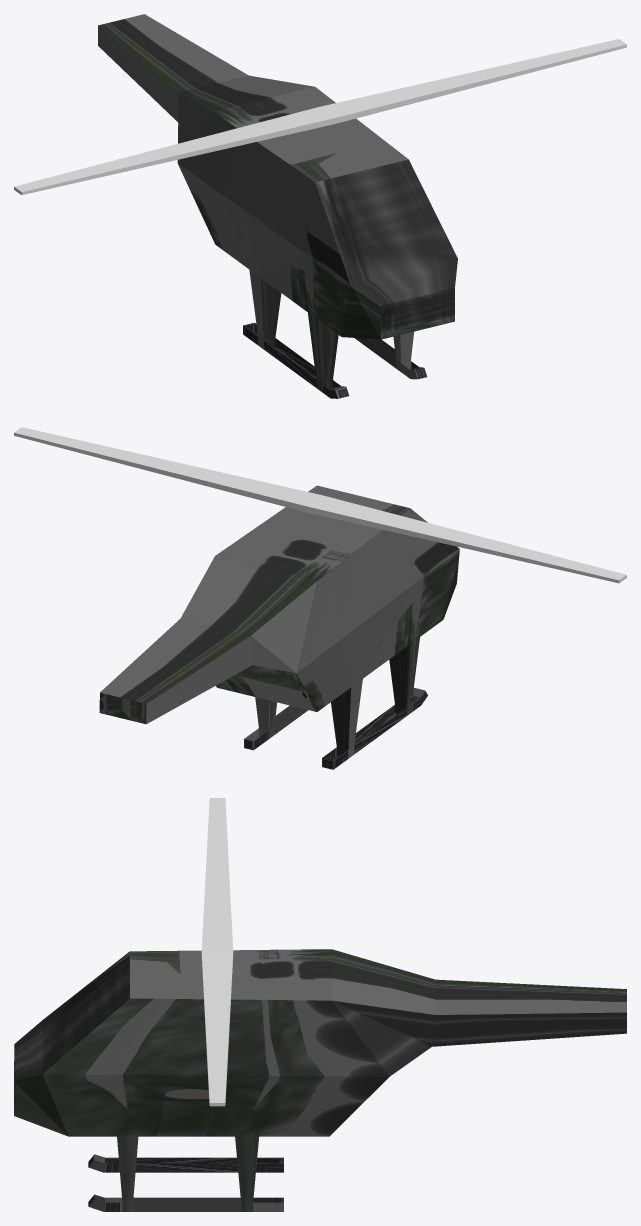
File: helicopter.dae
3 renders of one model, top to bottom at view 1: azimuth 30°, elevation 25°; view 2: azimuth 150°, elevation 25°; view 3: azimuth 270°, elevation 25°, orthographic. The views are drawn at different scales.
Visible parts, largest first — view 1: Chassis, Blades; view 2: Chassis, Blades; view 3: Chassis, Blades.
Boxes of the visible parts, <box> form: Chassis: <box>98,14,457,398</box>; Blades: <box>14,39,626,194</box>; Chassis: <box>99,485,459,769</box>; Blades: <box>14,427,626,583</box>; Chassis: <box>14,949,626,1211</box>; Blades: <box>201,798,233,1106</box>.
Size of the model in its own units: 9.57 by 8.13 by 3.52.
Materials: 1 (1 with a texture image).
